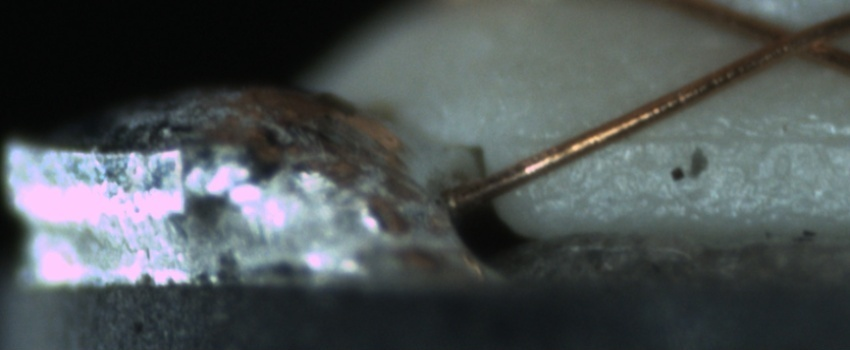CL: (745, 9, 838, 67)
DL: (533, 108, 850, 168)
